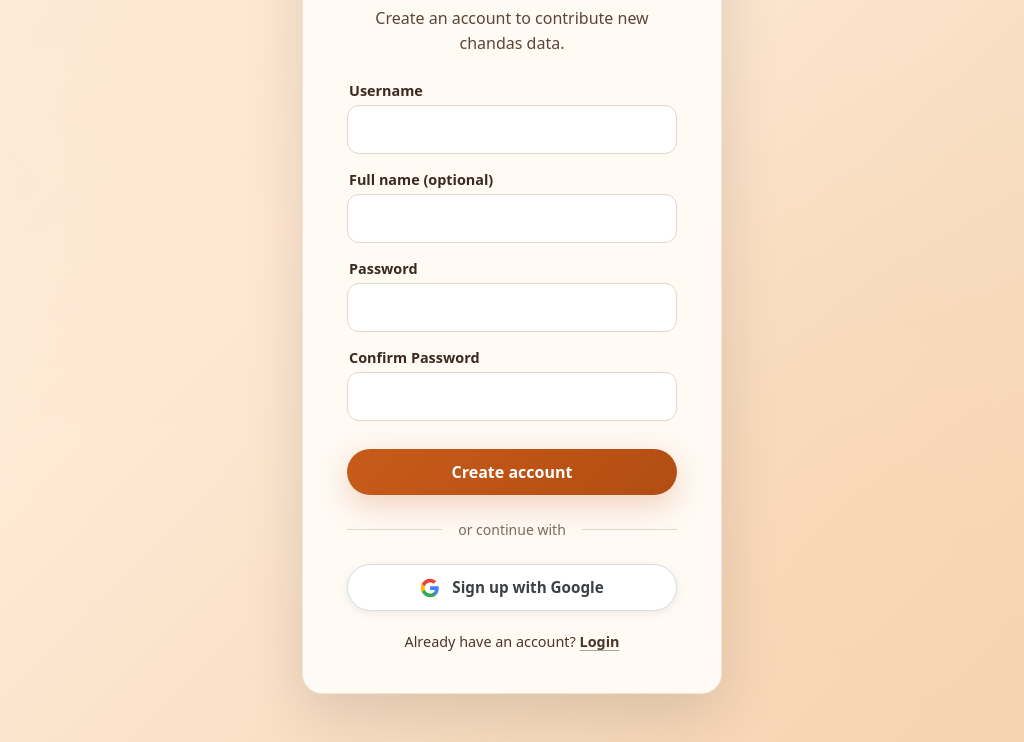
SignupPage › says why Google sign-up could not start
(page scrolled)
Click the button "Sign up with Google": (512, 588) [347, 564, 677, 611]
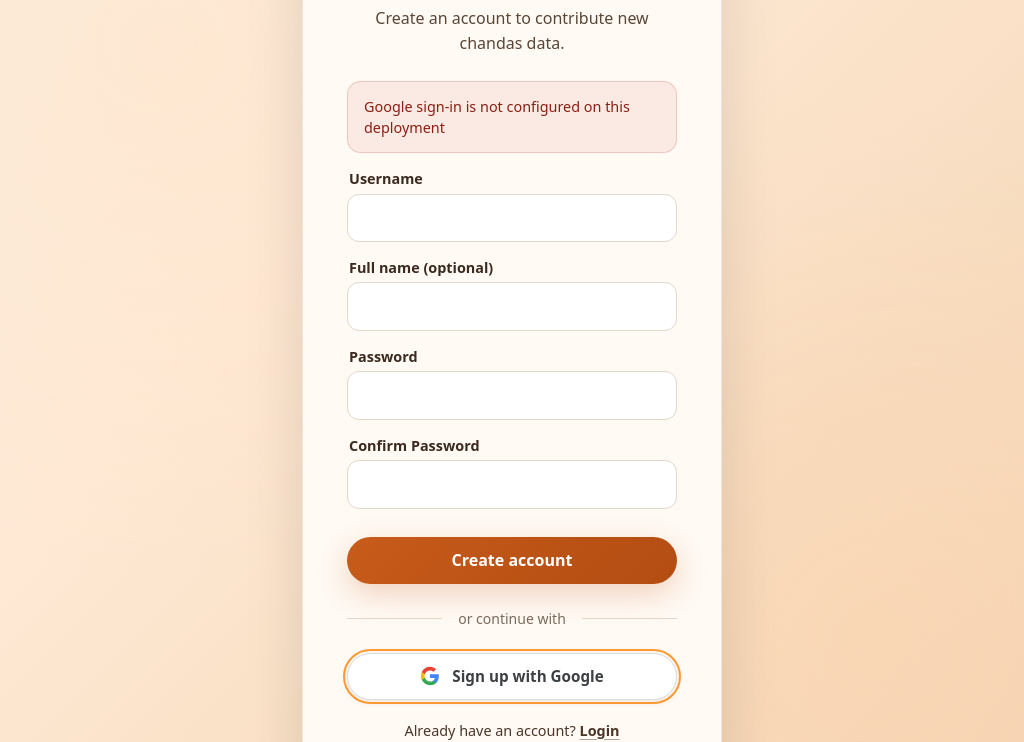
Expected: the message reads "Google sign-in is not configured on this deployment", [364, 97, 630, 137]
